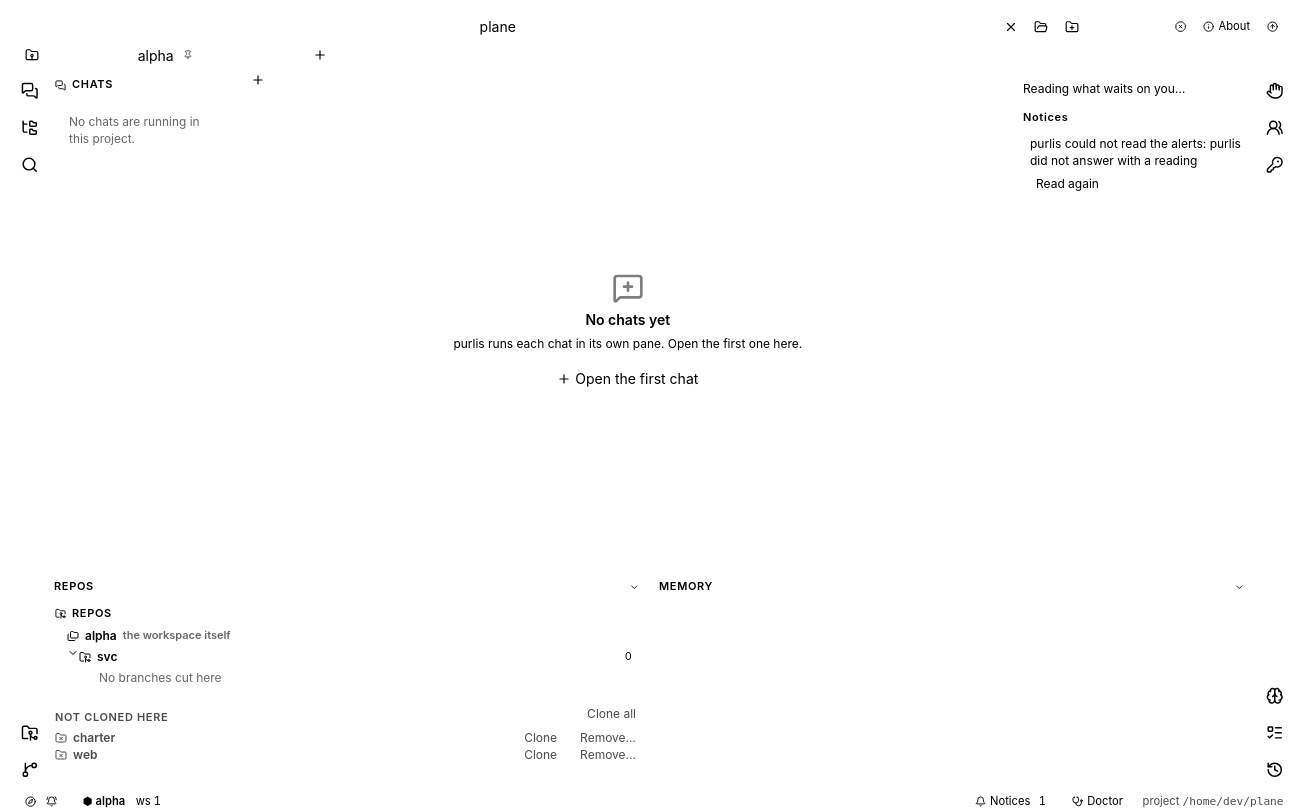
Test: a repo that is not cloned here › has a Clone button on its row, which clones it where the workspace says and moves it to the clones
Click the tab named "Explorer" at (30, 128), box [12,110,47,145]
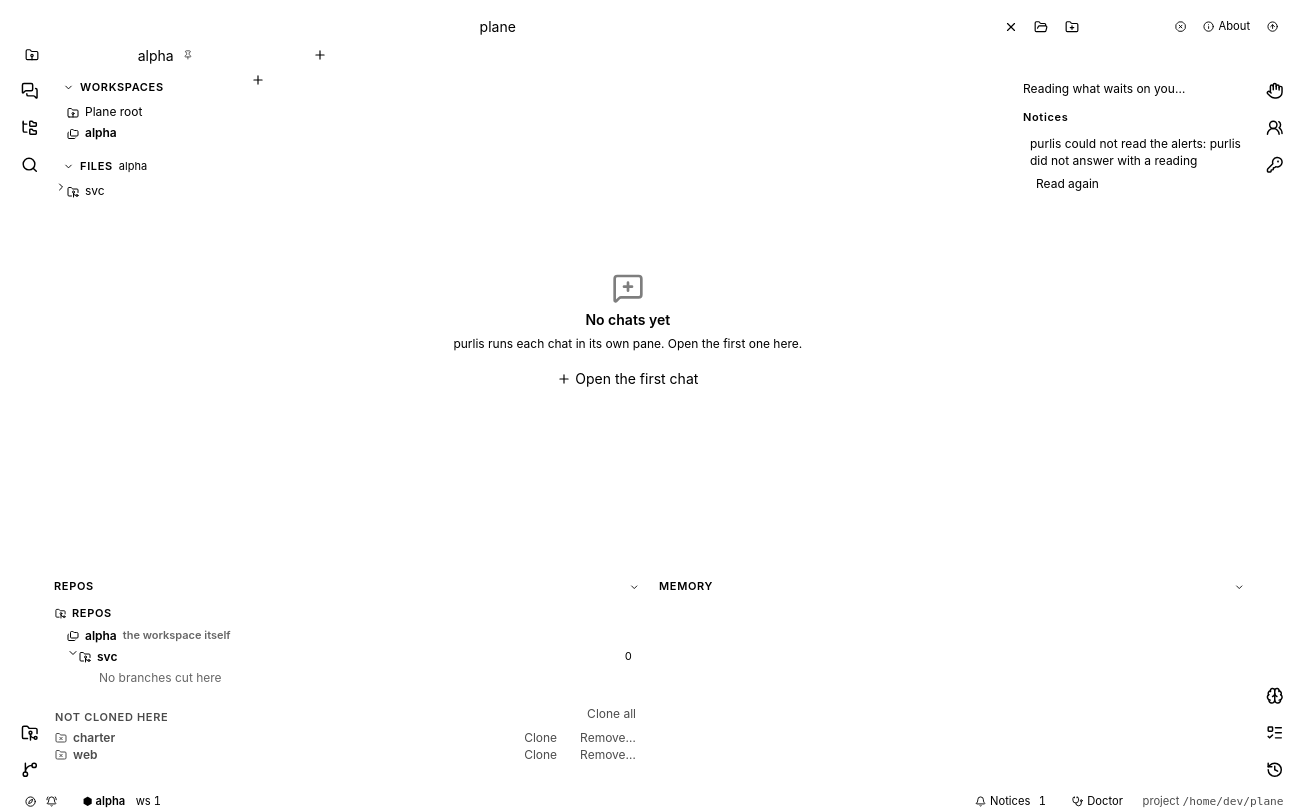
Click the button with aria-label "Clone charter" at (541, 738), box [516,730,565,746]
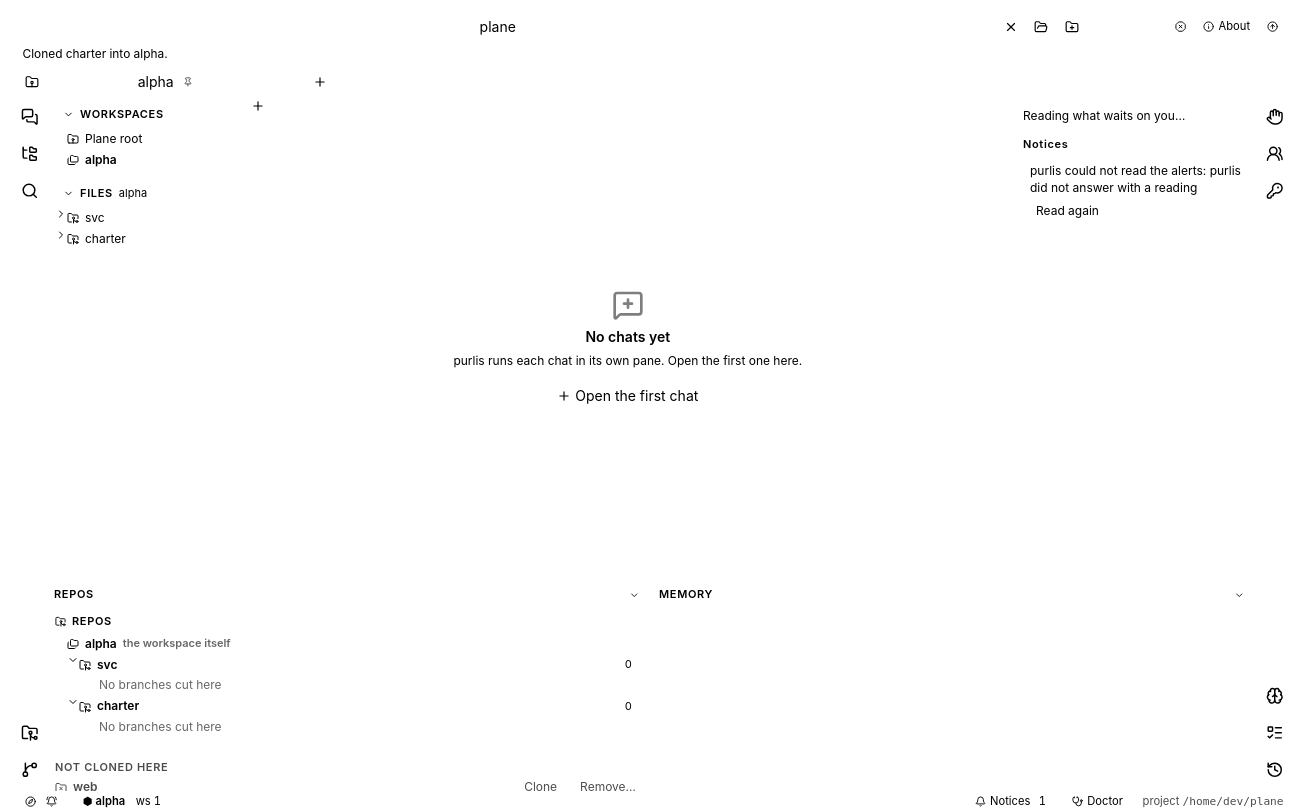
Check: the element with test id "clone-charter" is shown, box [55,696,644,736]
